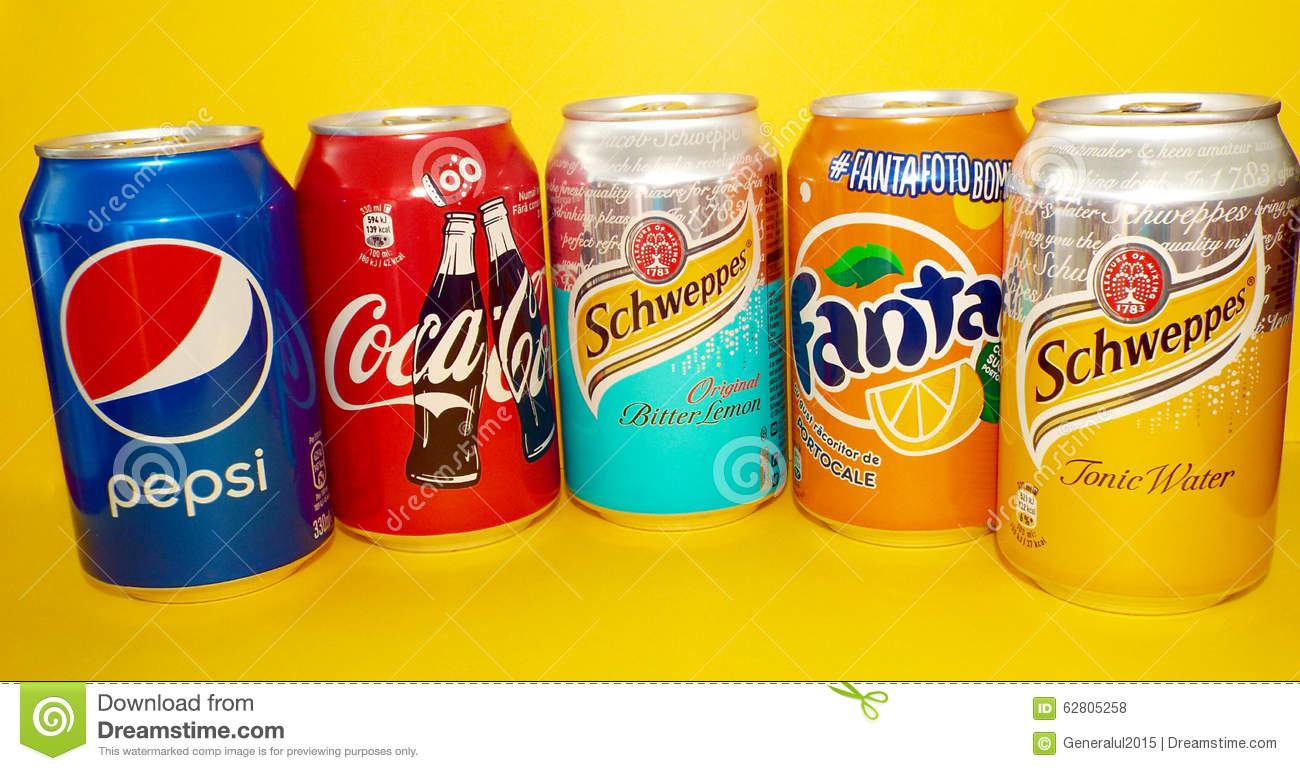fanta: (784, 117, 1002, 530)
